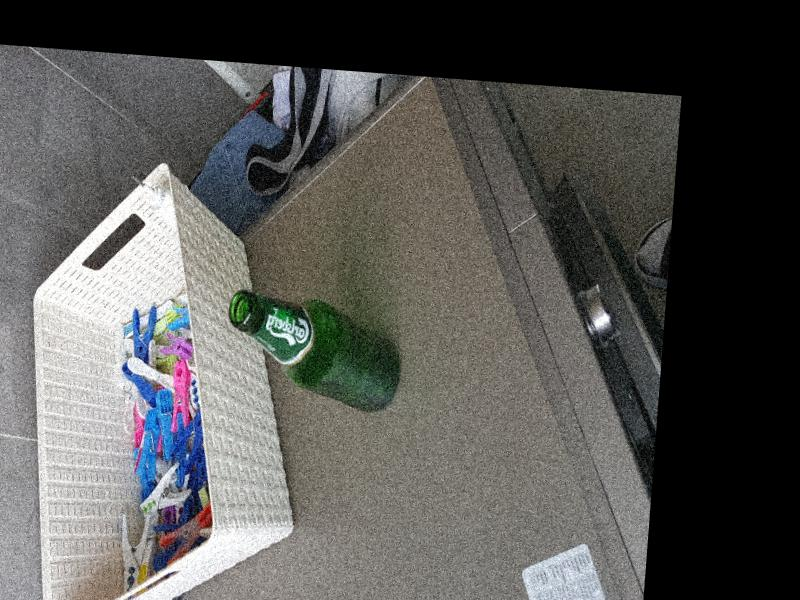Beer: (221, 290, 405, 414)
